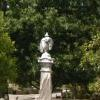Statue: (28, 21, 68, 98)
